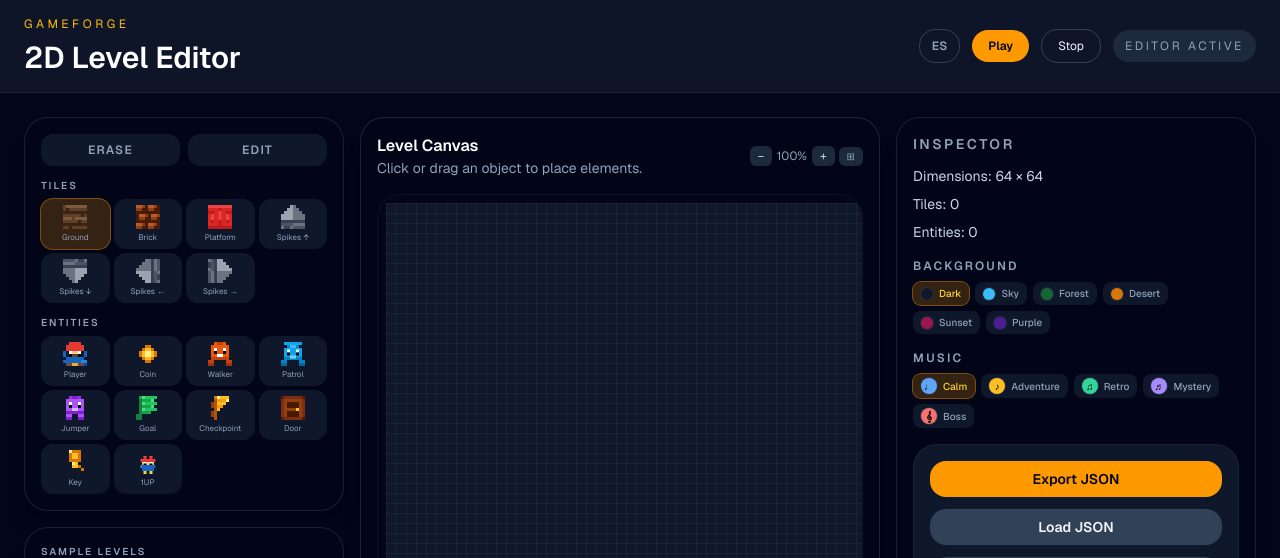
Test case: EditorShell › shows runtime active status after clicking play
Click the button with aria-label "play:" at point(1001, 46), box top-left (972, 30), bottom-right (1029, 62)
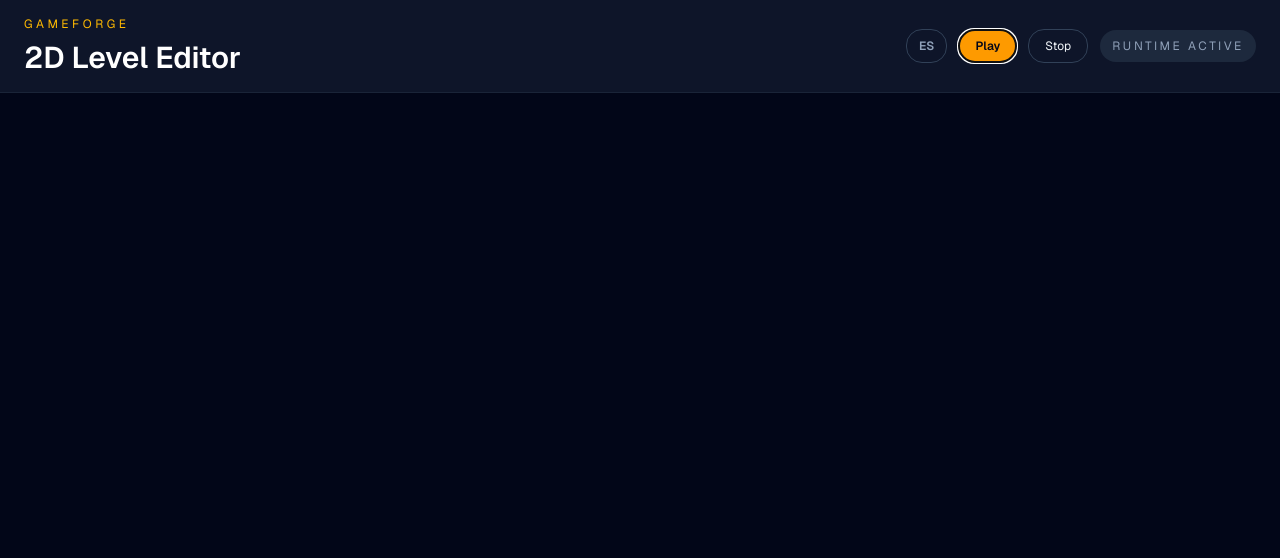
expect the text "Runtime active" is shown: met, box top-left (1100, 30), bottom-right (1256, 62)
